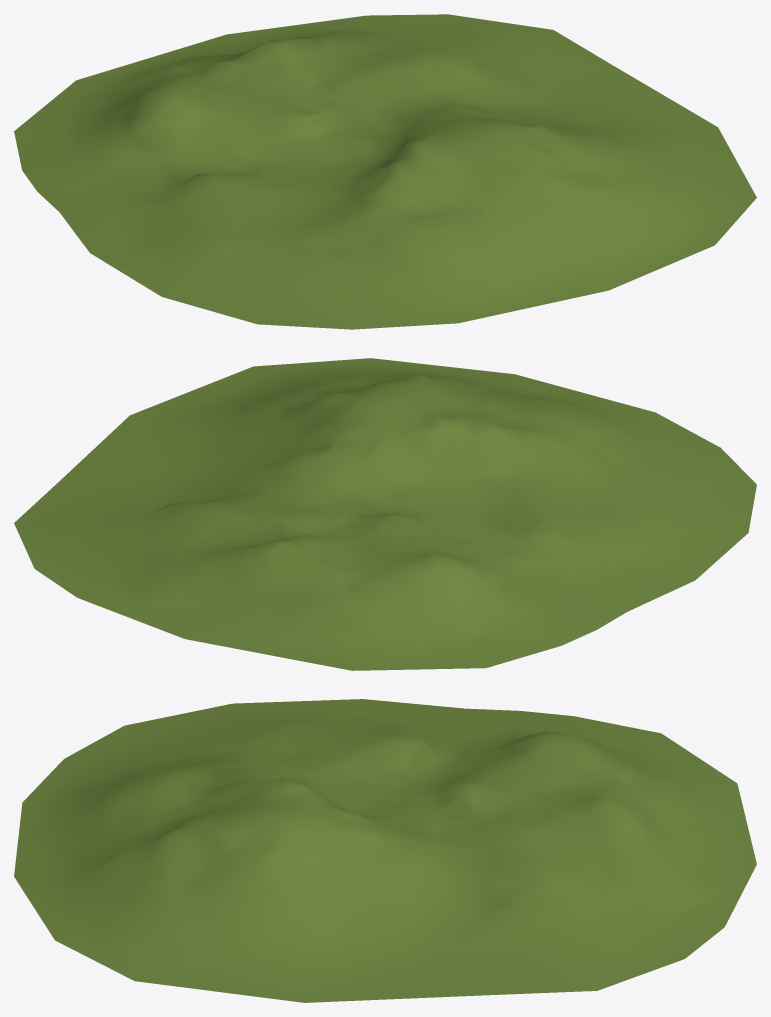
The model's file is rpgpp_av_hill_background_02.gltf.
The picture shows the model from 3 angles, top to bottom: view 1: azimuth 30°, elevation 25°; view 2: azimuth 150°, elevation 25°; view 3: azimuth 270°, elevation 25°; orthographic projection. The views are drawn at different scales.
Parts seen in each view (by area): view 1: rpgpp_av_hill_background_02; view 2: rpgpp_av_hill_background_02; view 3: rpgpp_av_hill_background_02.
Part boxes in pixels (<box>): rpgpp_av_hill_background_02: <box>14,14,756,329</box>; rpgpp_av_hill_background_02: <box>14,358,756,670</box>; rpgpp_av_hill_background_02: <box>14,699,756,1002</box>.
Size of the model in its own units: 1.1 by 0.1124 by 1.13.
Materials: 1 (1 with a texture image).
